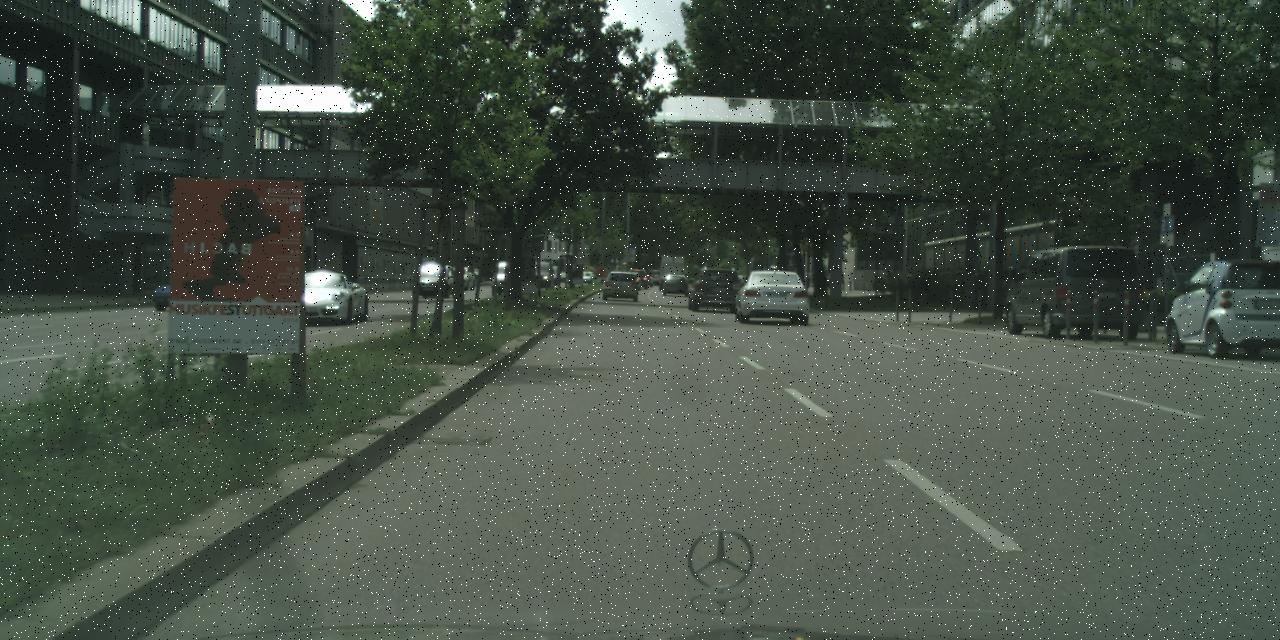ped: (835, 268, 844, 290), (846, 272, 854, 292)
